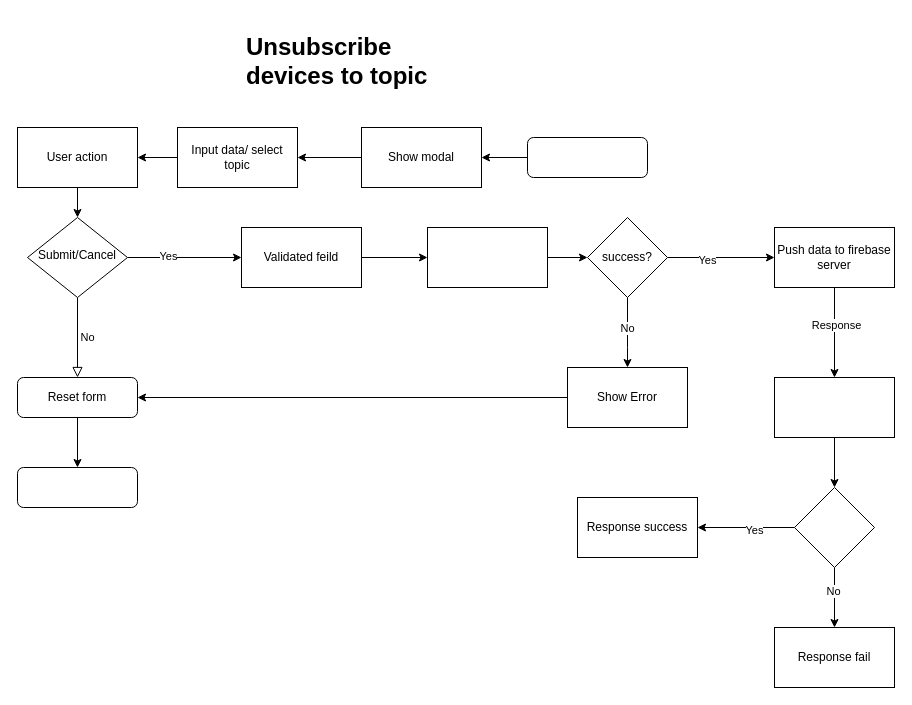
This 912x705 diagram has some shape labels left out. The shapes that lost their labels are listed below. From the top down, each one's centre as x and y in pixels, then its label:
At (587,157): "btn click unsubscribe".
At (487,257): "Call API unsubscribe topic".
At (834,407): "Firebase remove devices (tokens) with topic".
At (77,487): "Hide modal".
At (834,527): "success/fail".
